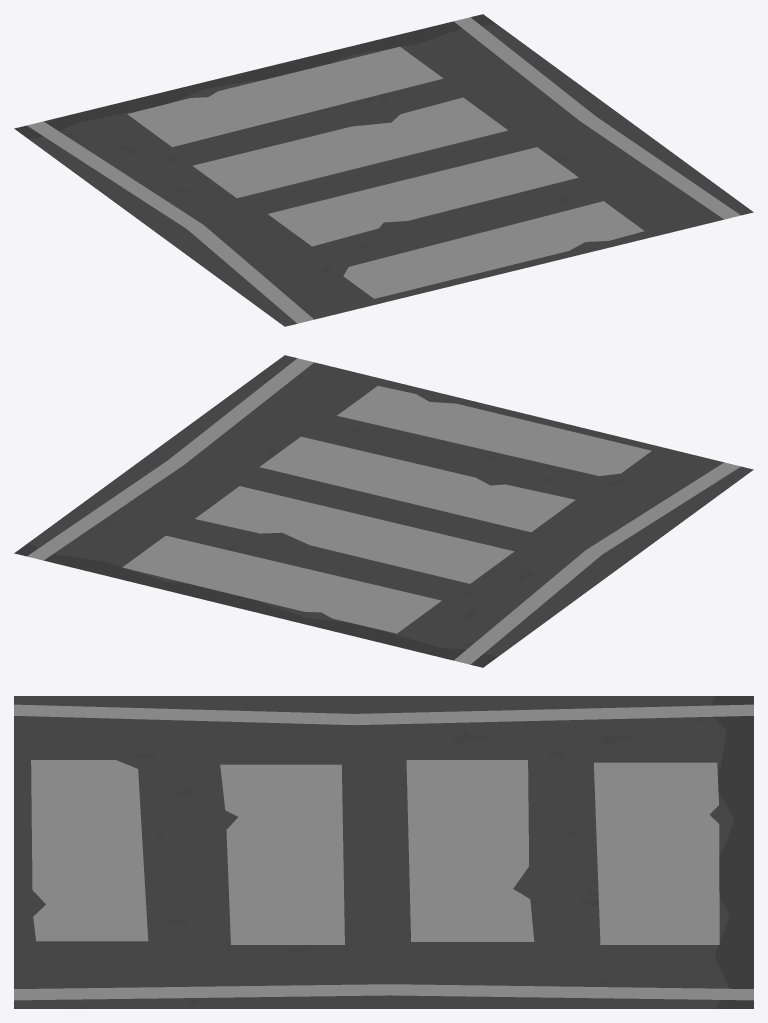
File: road_crossing.glb
3 renders of one model, top to bottom at view 1: azimuth 30°, elevation 25°; view 2: azimuth 150°, elevation 25°; view 3: azimuth 270°, elevation 25°, orthographic. The views are drawn at different scales.
Parts seen in each view (by area): view 1: SM_Env_Road_Crossing_01; view 2: SM_Env_Road_Crossing_01; view 3: SM_Env_Road_Crossing_01.
Boxes of the visible parts, bbox=[...] form: SM_Env_Road_Crossing_01: bbox=[14, 14, 753, 326]; SM_Env_Road_Crossing_01: bbox=[14, 355, 753, 667]; SM_Env_Road_Crossing_01: bbox=[14, 696, 753, 1008].
Size of the model in its own units: 5 by 3.65e-07 by 5.
Materials: 1 (1 with a texture image).
